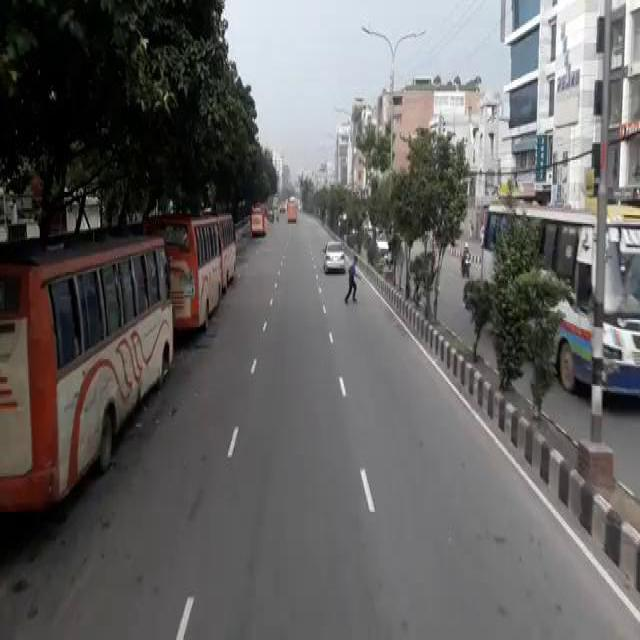bus: (0, 233, 173, 512), (477, 201, 638, 396), (149, 212, 220, 331), (220, 211, 235, 281), (249, 201, 265, 235), (285, 196, 296, 220)
car: (320, 237, 345, 270)
motorcycle: (457, 247, 470, 274)
